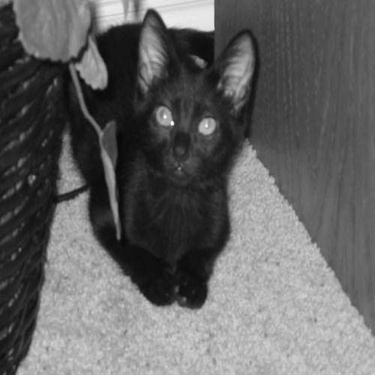cat: (76, 19, 267, 301)
